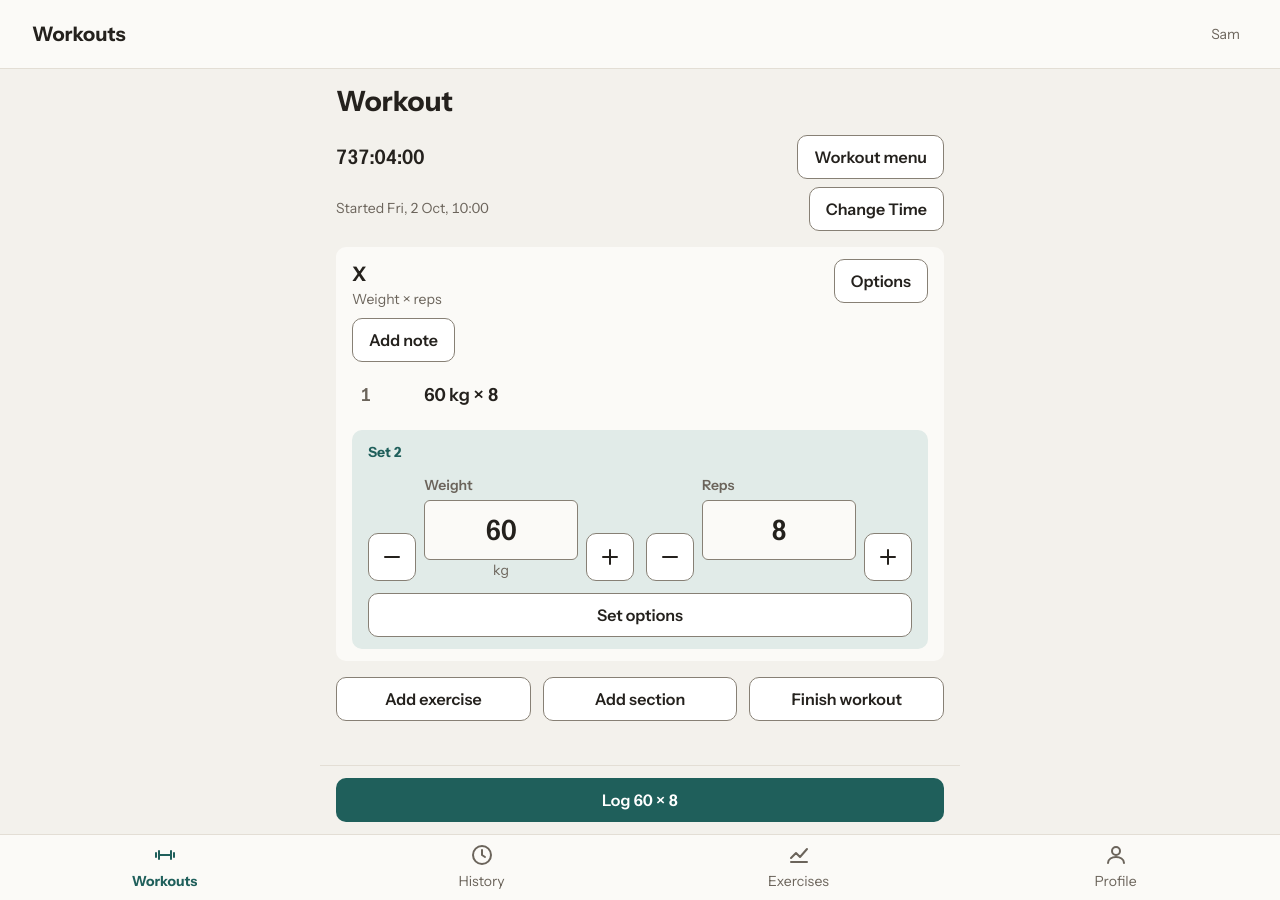
Test: #108 — the workout screen keeps the screen on › holds a screen wake lock while a workout is open, and lets go on leaving it
Check: the heading "Workout" is shown, box x1=336 y1=84 x2=453 y2=118
Click the link "History". click: [482, 866]
box: x1=458 y1=843 x2=505 y2=890
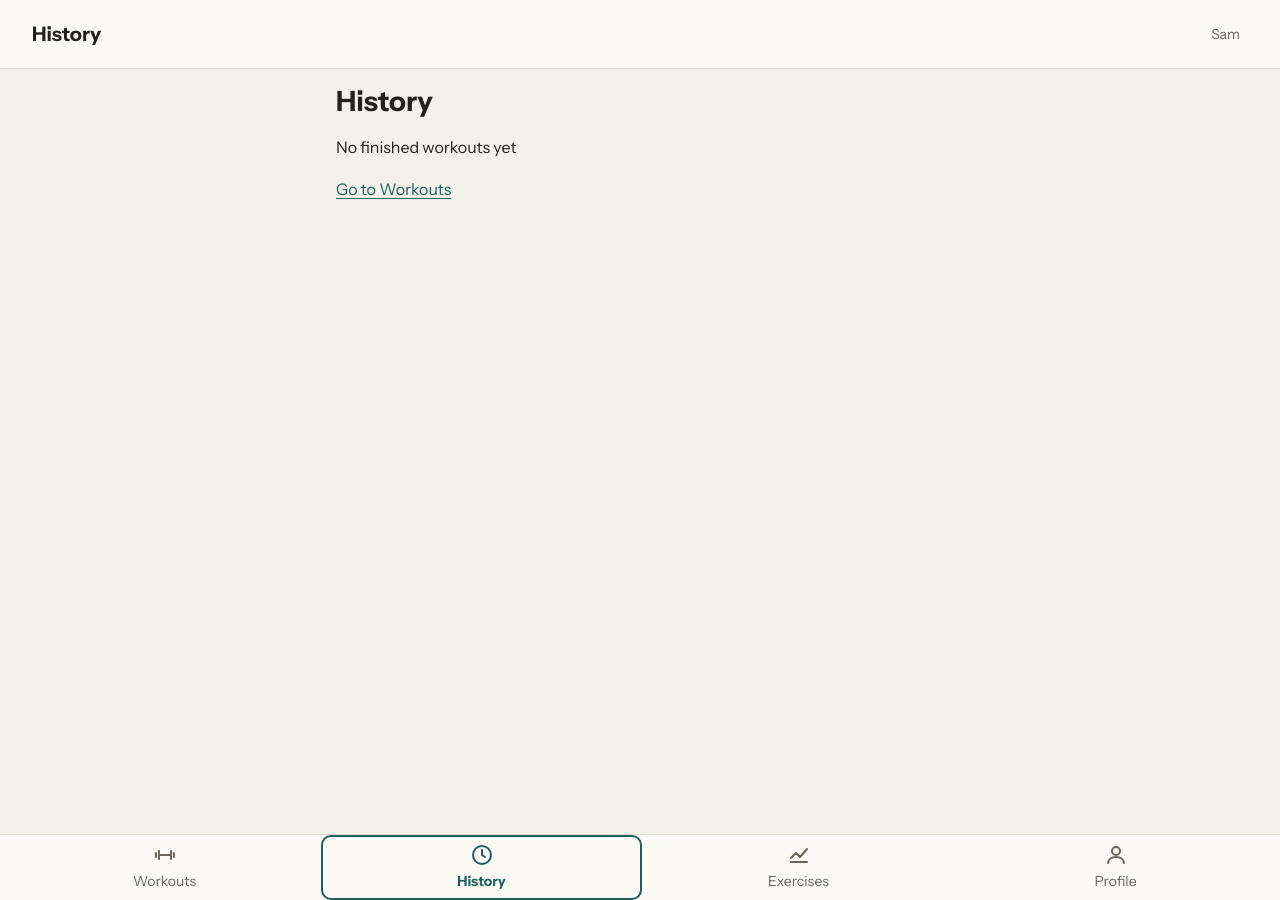
Check: the heading "History" is shown, box x1=336 y1=84 x2=433 y2=118
